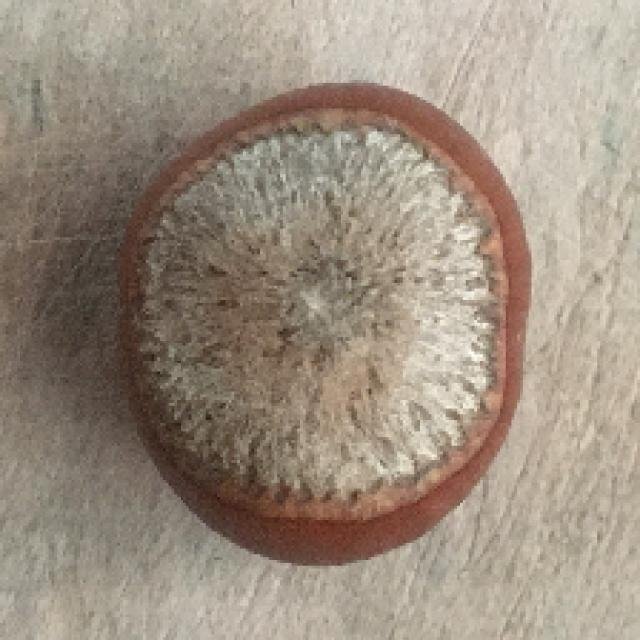qualityHazelnut: (119, 77, 535, 567)
